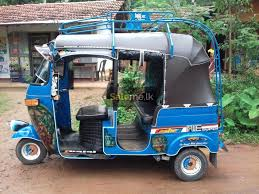tuk tuk: (9, 35, 228, 183)
